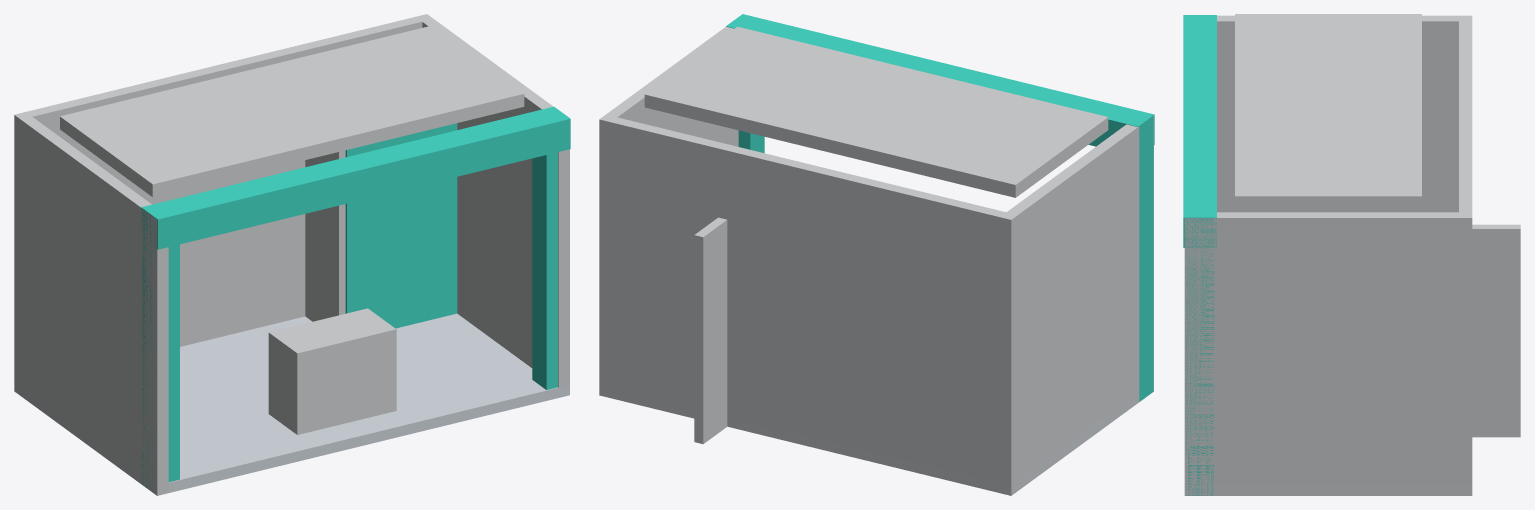
The picture shows the model from 3 angles, left to right: view 1: azimuth 30°, elevation 25°; view 2: azimuth 150°, elevation 25°; view 3: azimuth 270°, elevation 25°; orthographic projection.
Parts seen in each view (by area): view 1: Exhibition Booth Concept; view 2: Exhibition Booth Concept; view 3: Exhibition Booth Concept.
Boxes of the visible parts, left/top/right/bottom form: Exhibition Booth Concept: left=14, top=14, right=570, bottom=495; Exhibition Booth Concept: left=599, top=14, right=1154, bottom=495; Exhibition Booth Concept: left=1183, top=14, right=1520, bottom=495.
Size of the model in its own units: 5 by 3.34 by 3.52.
